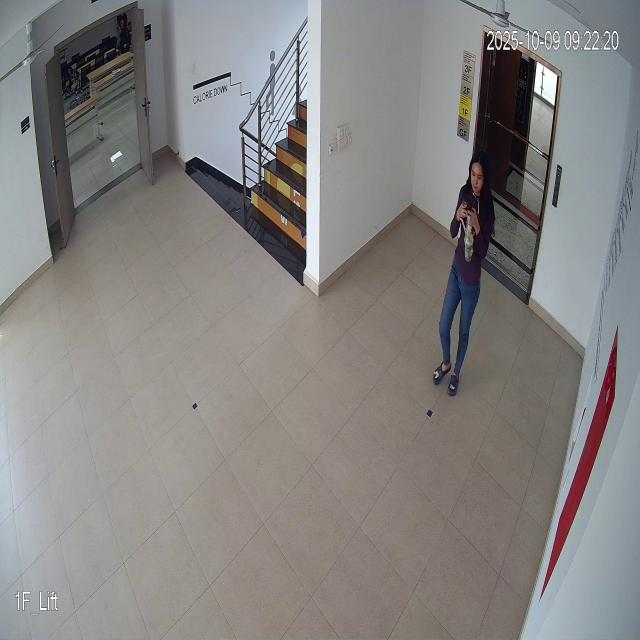face: (462, 146, 490, 202)
